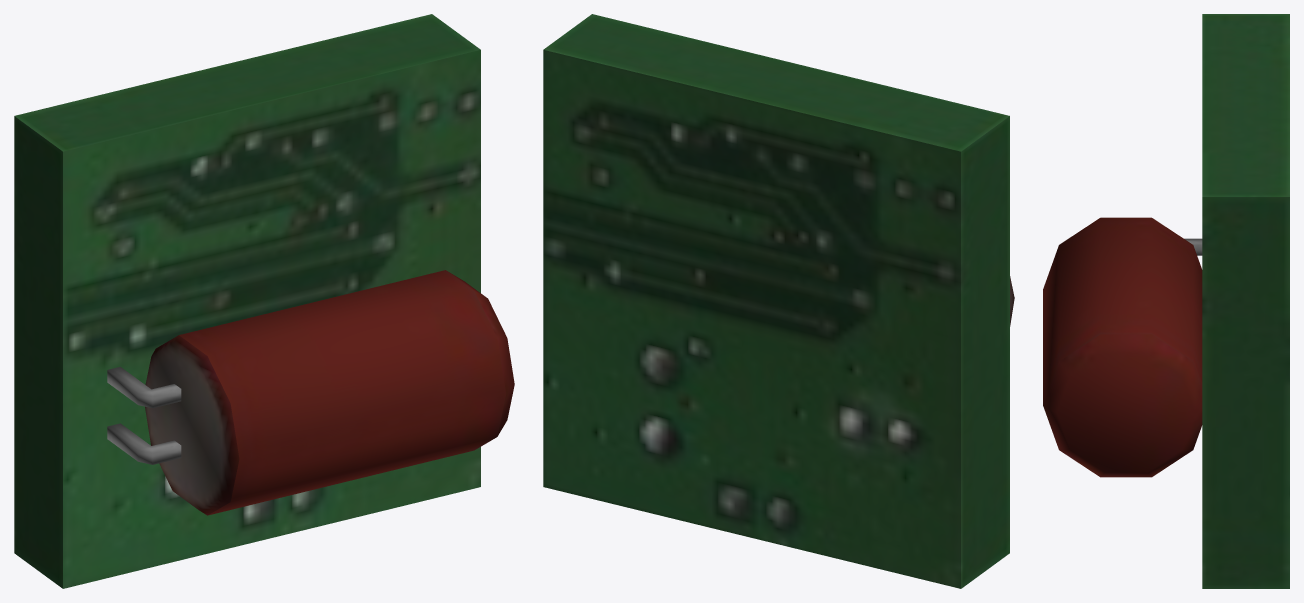
File: hardware7.obj
The picture shows the model from 3 angles, left to right: view 1: azimuth 30°, elevation 25°; view 2: azimuth 150°, elevation 25°; view 3: azimuth 270°, elevation 25°; orthographic projection. The views are drawn at different scales.
Visible parts, largest first — view 1: unwrapped01; view 2: unwrapped01; view 3: unwrapped01.
Boxes of the visible parts, x1,y1,x2,y2 form: unwrapped01: (14, 14, 514, 588); unwrapped01: (543, 14, 1014, 588); unwrapped01: (1043, 14, 1289, 588).
Size of the model in its own units: 20.04 by 20.04 by 11.42.
Materials: 1 (1 with a texture image).
